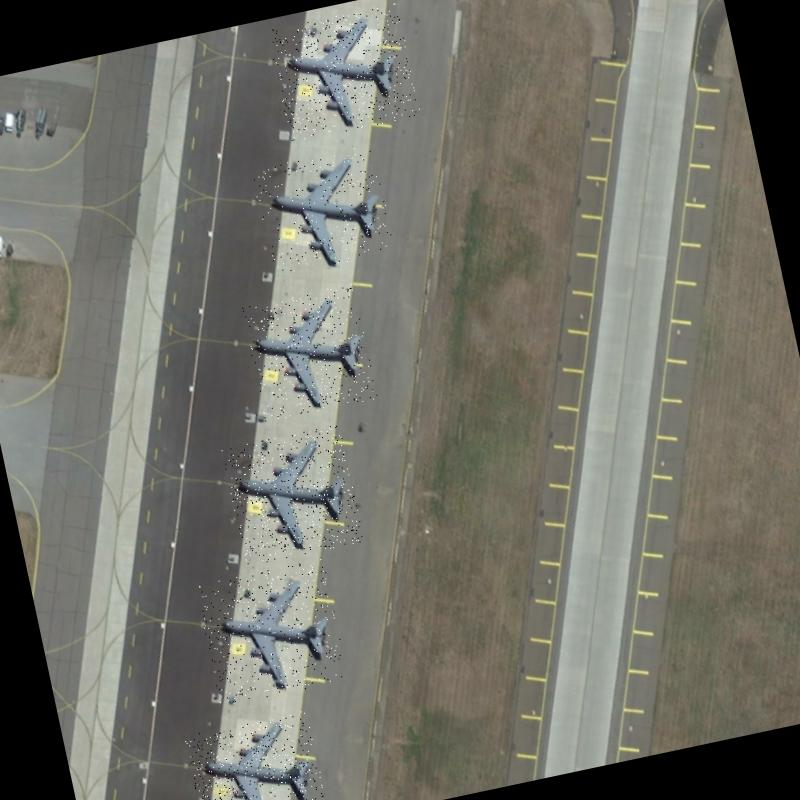A14: (195, 557, 349, 707), (268, 3, 422, 144), (222, 424, 364, 567), (251, 144, 396, 278), (241, 283, 378, 422), (184, 710, 330, 800)
